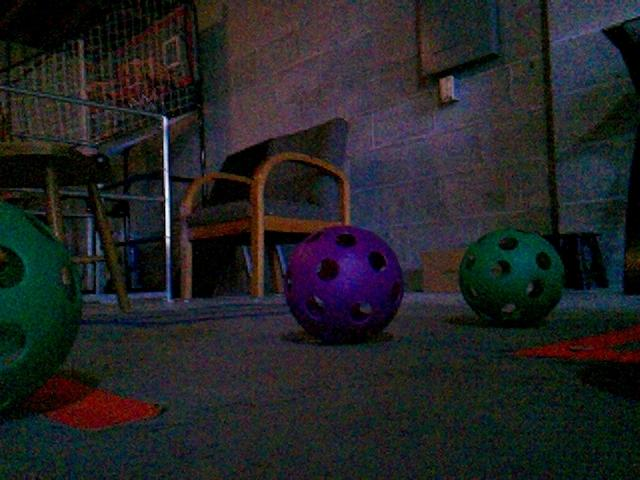Green: (0, 199, 82, 415), (457, 228, 565, 325)
Purple: (284, 226, 403, 342)
